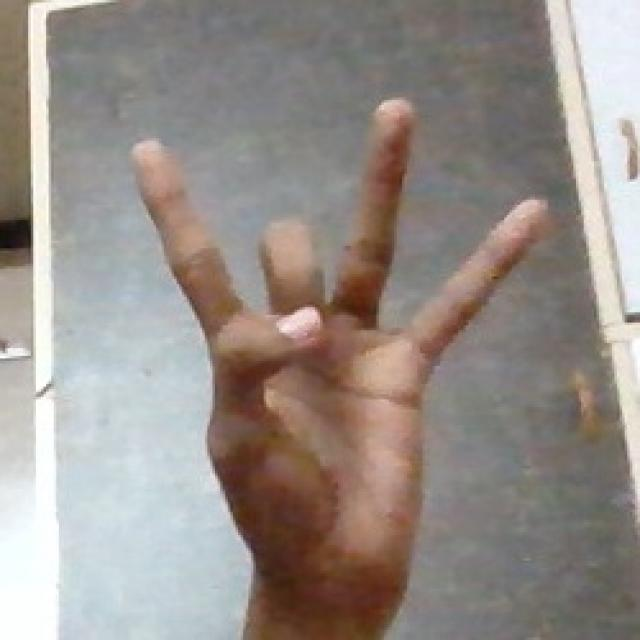Numeric-8: (133, 86, 546, 607), (594, 497, 594, 497)
